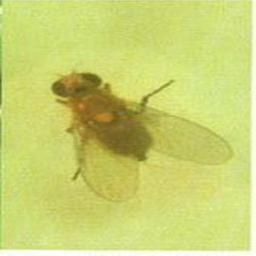liriomyza: (50, 70, 235, 202)
